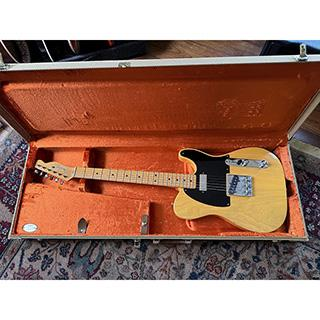Fender Telecaster: (28, 147, 290, 234)
SH: (197, 172, 246, 199)
